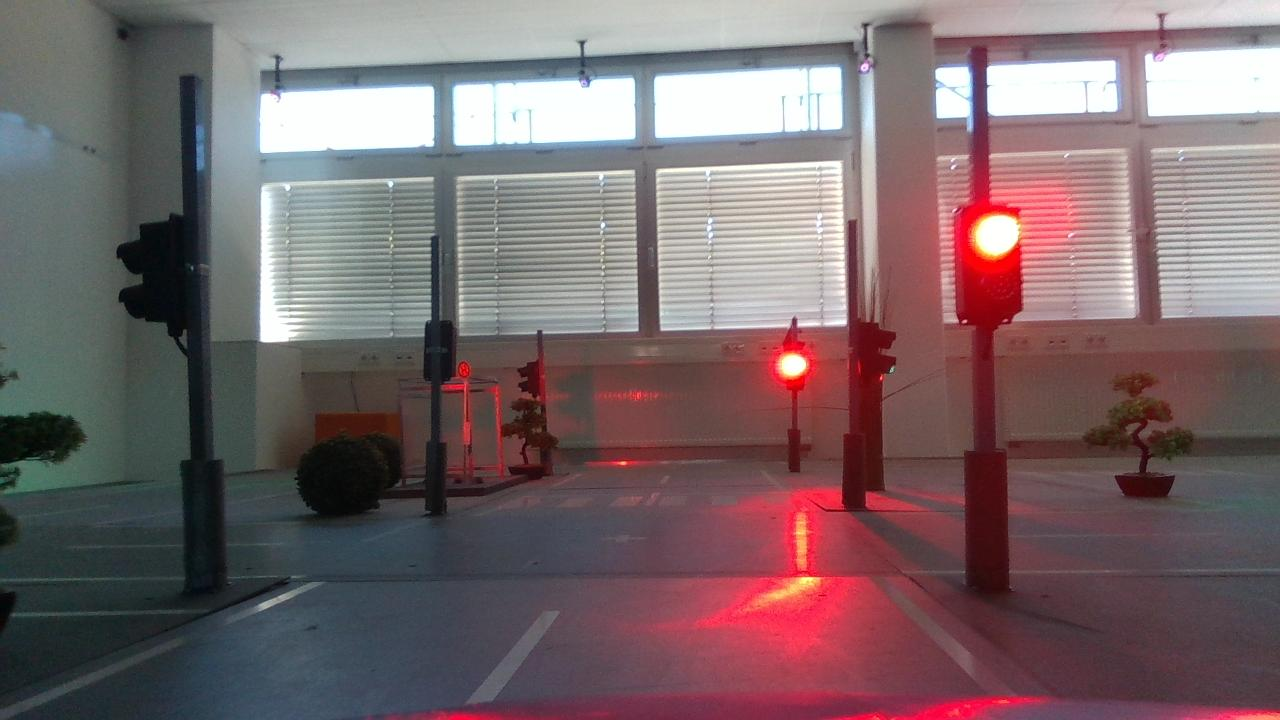traffic_light_red: (931, 192, 1040, 338)
